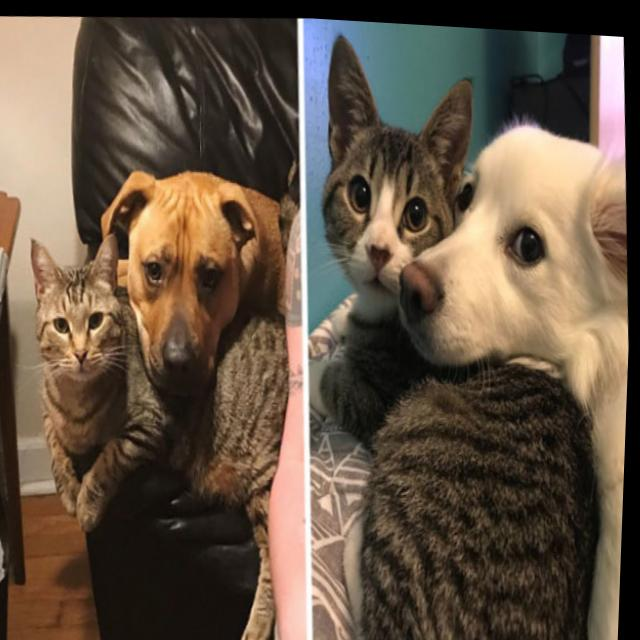Cat: (286, 17, 468, 640)
Dog: (406, 100, 638, 356), (115, 122, 315, 392), (10, 214, 144, 554)
